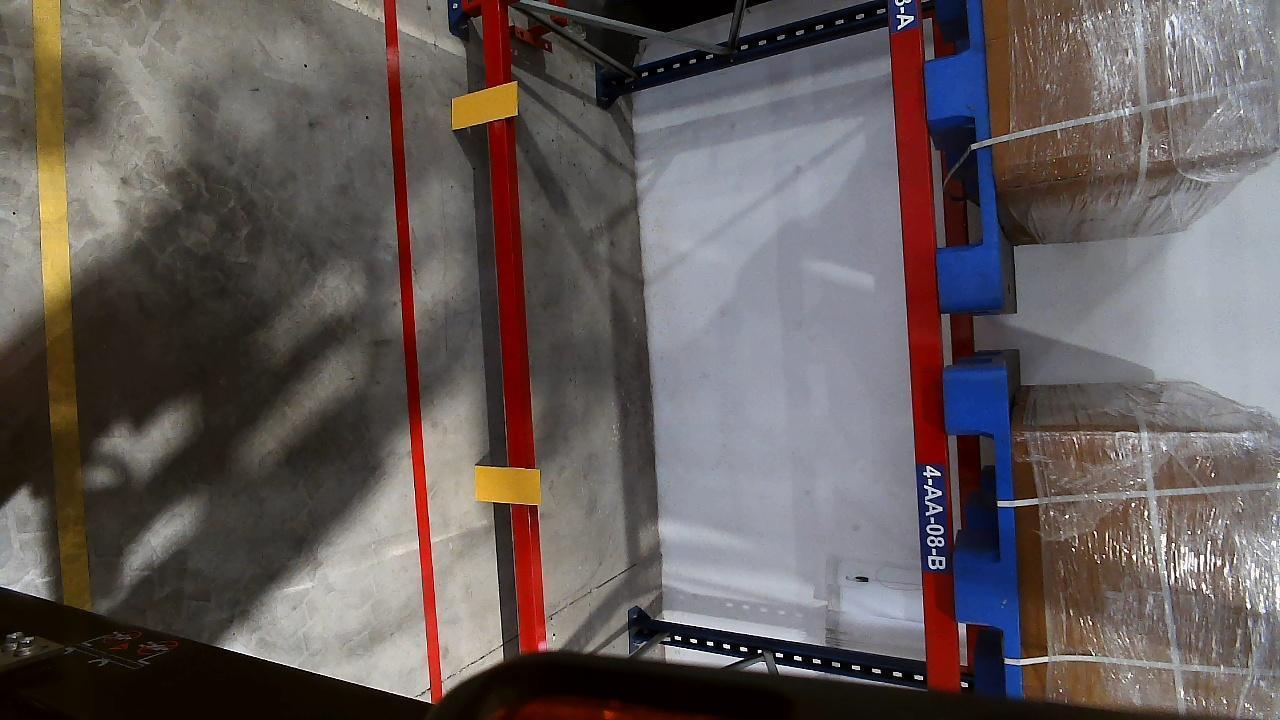red_line: (382, 0, 464, 687)
yellow_line: (24, 0, 104, 599)
